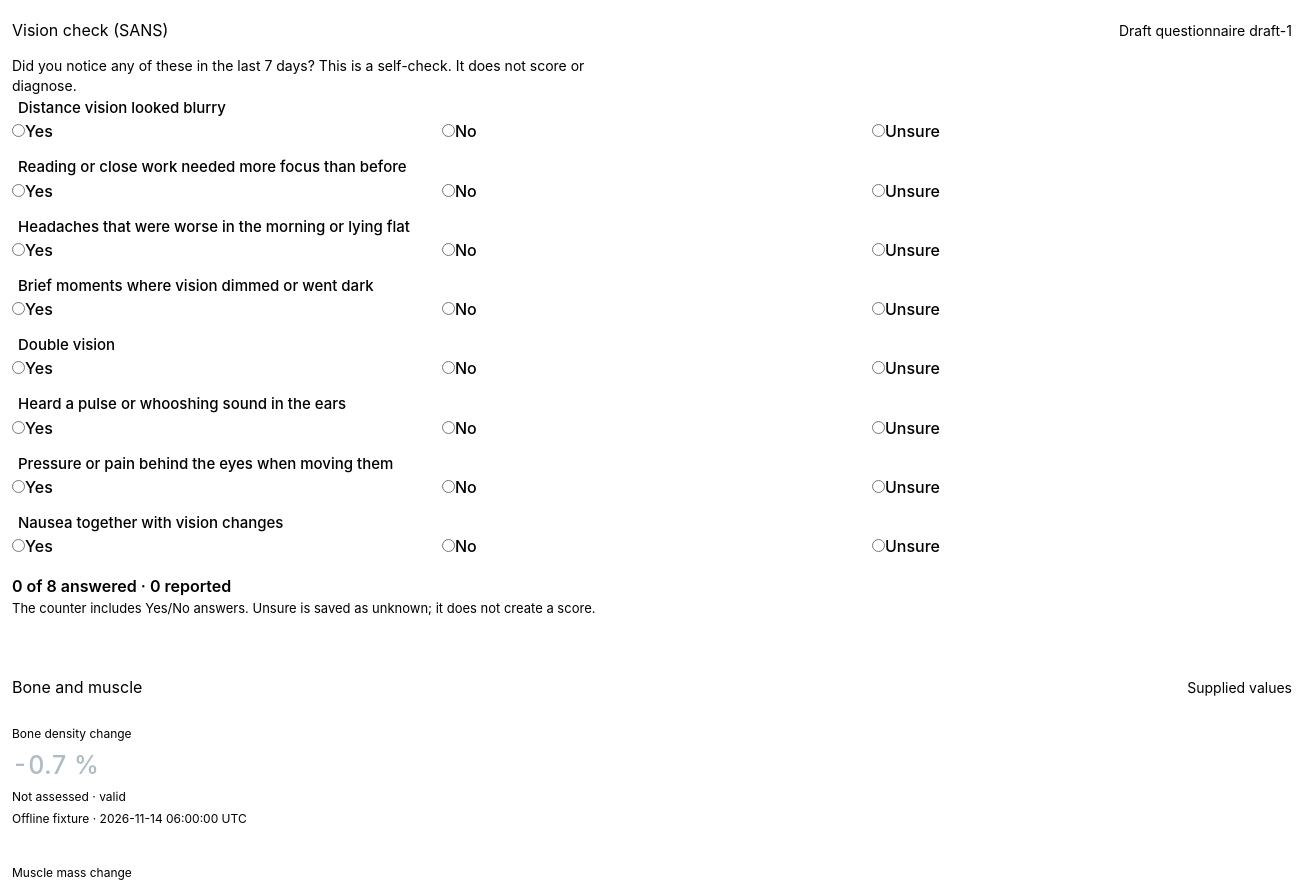
Scenario: integrated Faiz presentation › keeps the eight draft SANS questions unscored and supports explicit unknown answers
The width and height of the screenshot is (1304, 886).
Step 1. Click the radio button labelled "Yes" below "Distance vision looked blurry" → x=18, y=131, box x1=12 y1=124 x2=25 y2=137
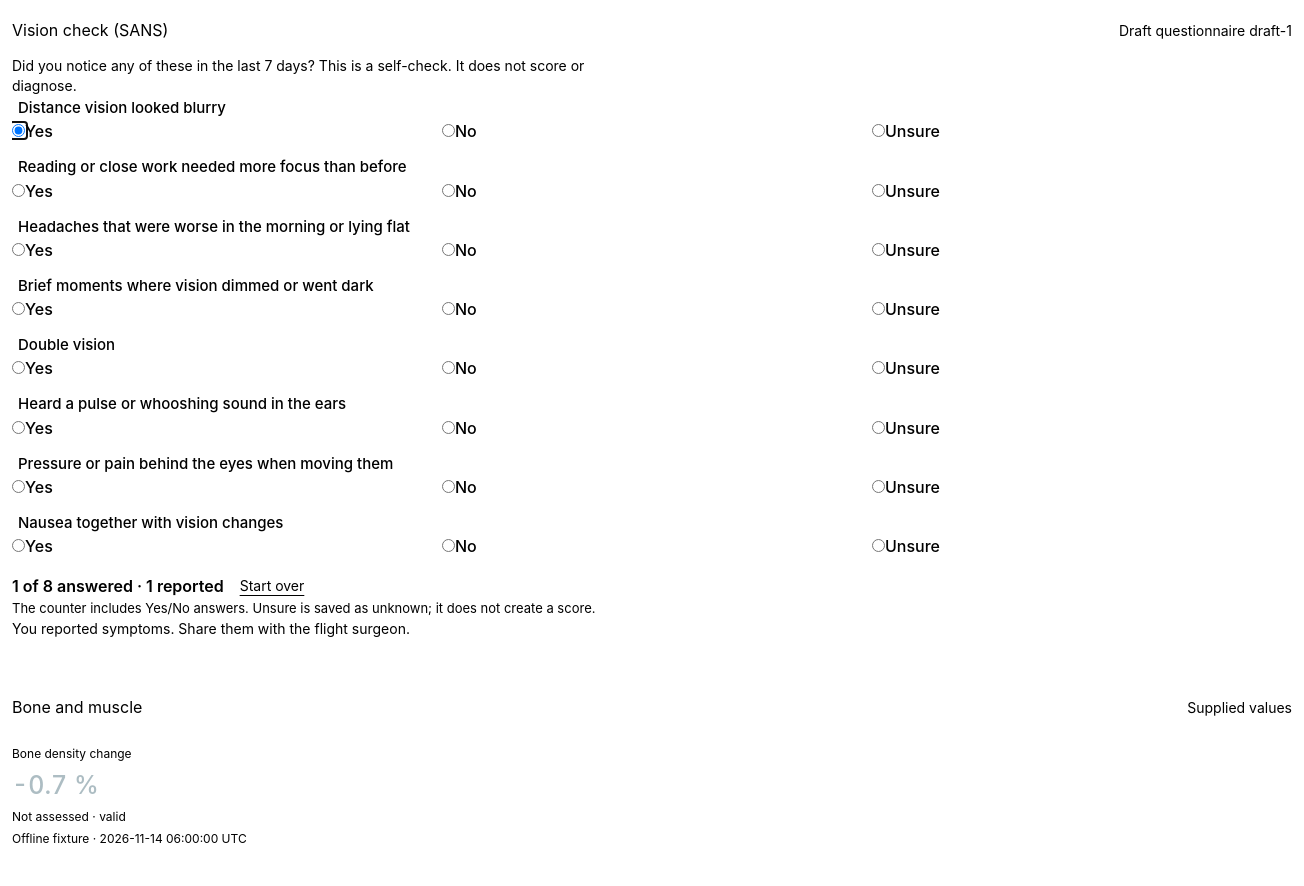
Result: the message reads "1 of 8 answered · 1 reported" at x1=12 y1=576 x2=224 y2=596
Step 2. Click the button "Start over" → x=272, y=586, box x1=240 y1=576 x2=304 y2=596
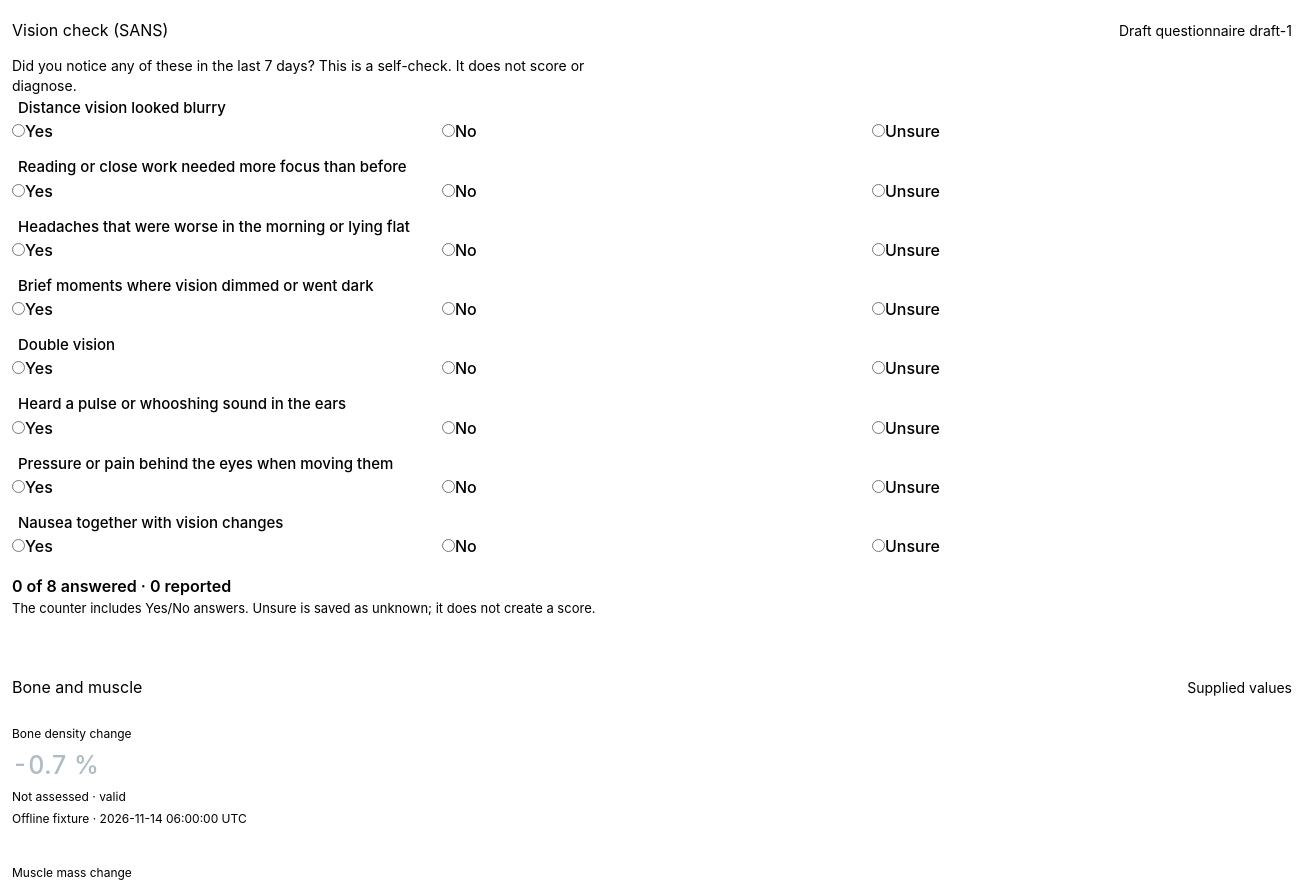
Result: the message reads "0 of 8 answered · 0 reported" at x1=12 y1=576 x2=231 y2=596
